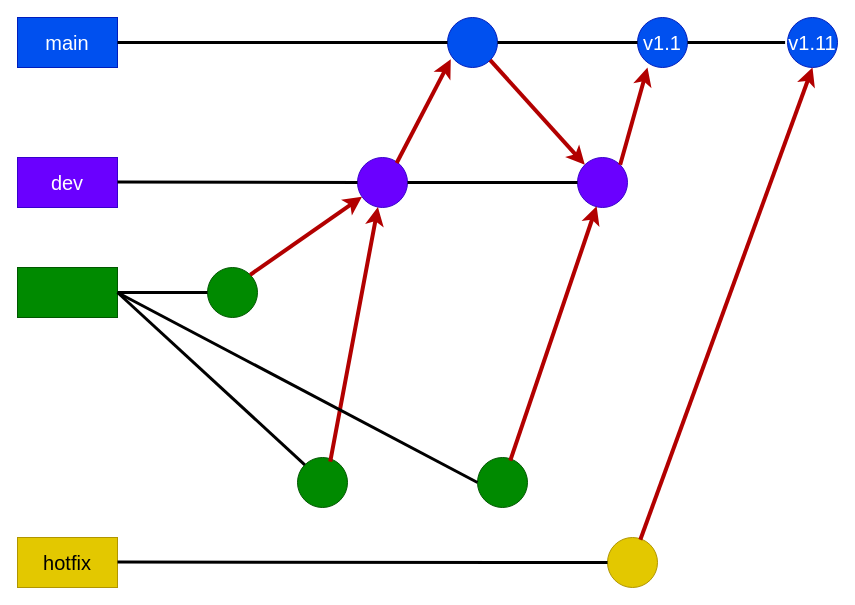
Some shapes in this 855 by 605 pixel diagram are drawn without their labels. The box of each missing label's shape, as (x1, y1, x2, y2) in pixels:
feature: (16, 266, 118, 318)
v1: (446, 16, 498, 68)
